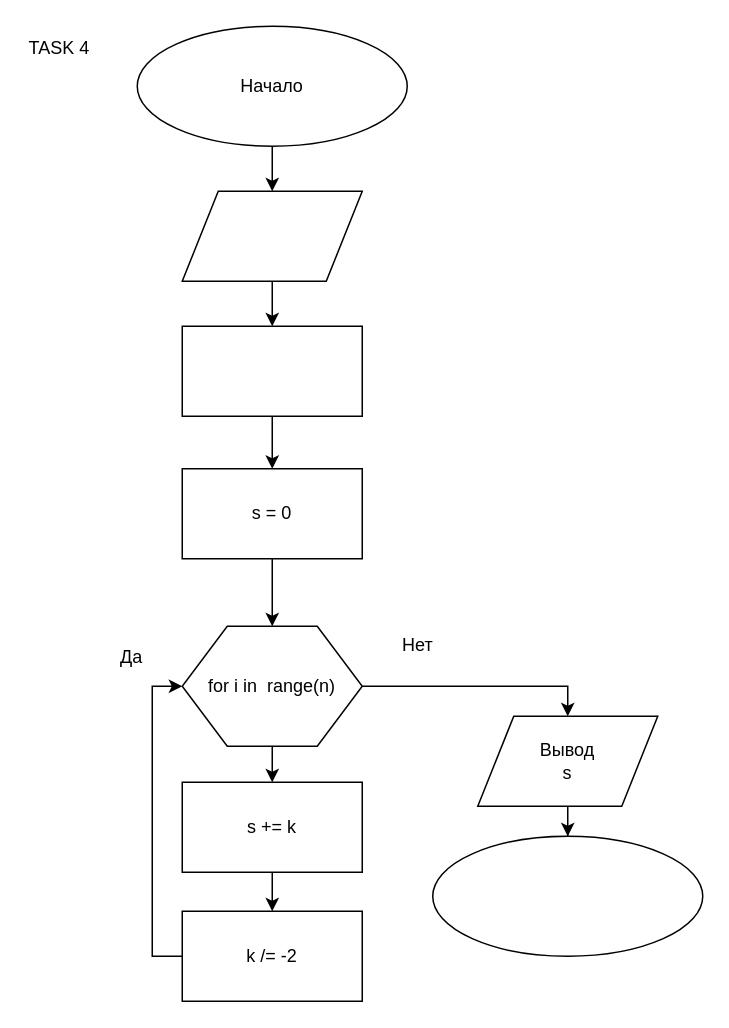
Image size: 729x1028. Some labels were removed from this diagram. Each missing label, with the box of its shape:
k = 1: (181, 325, 362, 416)
Ввод n: (181, 190, 362, 281)
Конец: (431, 835, 703, 956)
